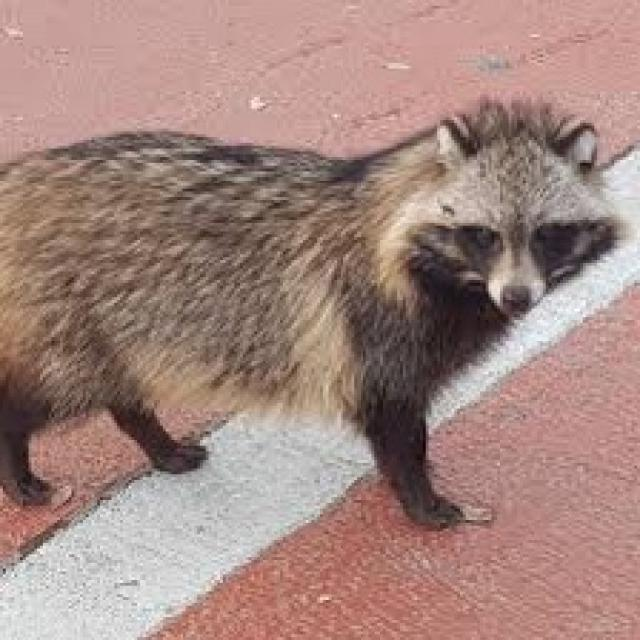racoon: (0, 115, 628, 564)
